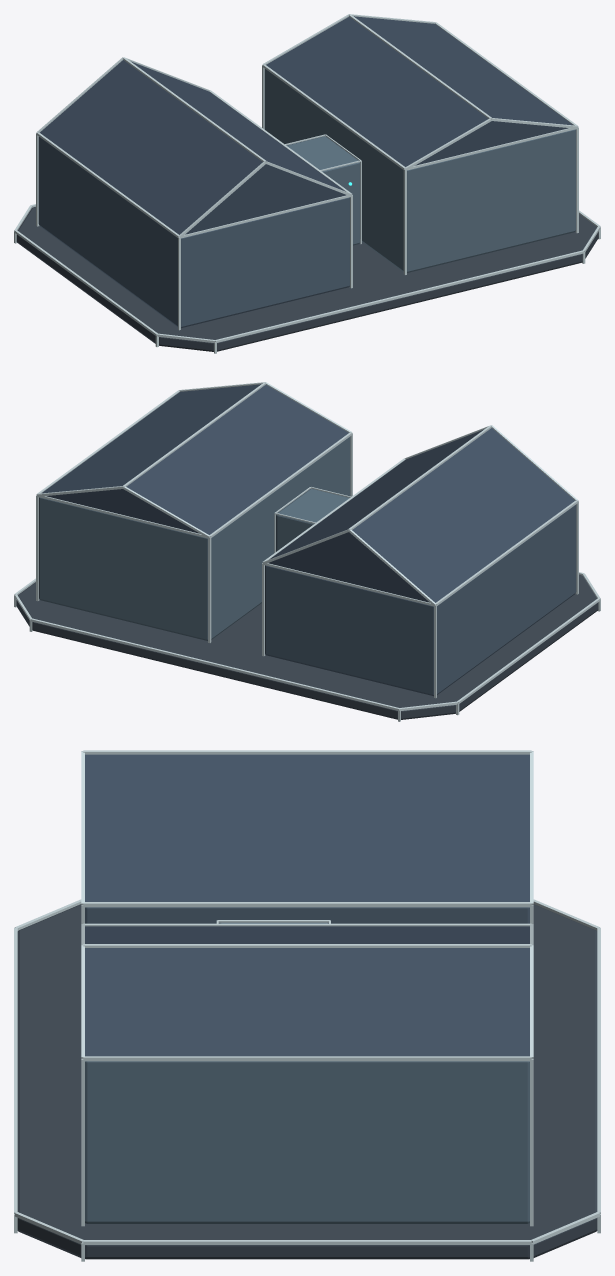
Rendered from skill-data-contracts-v1.glb.
3 renders of one model, top to bottom at view 1: azimuth 30°, elevation 25°; view 2: azimuth 150°, elevation 25°; view 3: azimuth 270°, elevation 25°, orthographic. The views are drawn at different scales.
Visible parts, largest first — view 1: skill-data-contracts-v1__mesh-roof__001, skill-data-contracts-v1__mesh-structure-mid__001, skill-data-contracts-v1__mesh-structure-dark__001, skill-data-contracts-v1__mesh-ground__001, skill-data-contracts-v1__technical-lines__001; view 2: skill-data-contracts-v1__mesh-roof__001, skill-data-contracts-v1__mesh-structure-mid__001, skill-data-contracts-v1__mesh-structure-dark__001, skill-data-contracts-v1__mesh-ground__001, skill-data-contracts-v1__technical-lines__001; view 3: skill-data-contracts-v1__mesh-roof__001, skill-data-contracts-v1__mesh-structure-mid__001, skill-data-contracts-v1__mesh-ground__001, skill-data-contracts-v1__technical-lines__001, skill-data-contracts-v1__mesh-structure-dark__001.
Part boxes in pixels (x1=…): skill-data-contracts-v1__mesh-roof__001: x1=40, y1=16, x2=572, y2=234; skill-data-contracts-v1__mesh-structure-mid__001: x1=264, y1=68, x2=575, y2=272; skill-data-contracts-v1__mesh-structure-dark__001: x1=38, y1=136, x2=349, y2=328; skill-data-contracts-v1__mesh-ground__001: x1=16, y1=207, x2=598, y2=351; skill-data-contracts-v1__technical-lines__001: x1=14, y1=14, x2=600, y2=353; skill-data-contracts-v1__mesh-roof__001: x1=42, y1=384, x2=574, y2=602; skill-data-contracts-v1__mesh-structure-mid__001: x1=39, y1=436, x2=350, y2=640; skill-data-contracts-v1__mesh-structure-dark__001: x1=265, y1=504, x2=576, y2=696; skill-data-contracts-v1__mesh-ground__001: x1=16, y1=575, x2=598, y2=719; skill-data-contracts-v1__technical-lines__001: x1=14, y1=382, x2=600, y2=721; skill-data-contracts-v1__mesh-roof__001: x1=85, y1=754, x2=529, y2=1056; skill-data-contracts-v1__mesh-structure-mid__001: x1=85, y1=922, x2=529, y2=1223; skill-data-contracts-v1__mesh-ground__001: x1=17, y1=904, x2=597, y2=1259; skill-data-contracts-v1__technical-lines__001: x1=14, y1=750, x2=600, y2=1261; skill-data-contracts-v1__mesh-structure-dark__001: x1=85, y1=907, x2=529, y2=923.
Bounding box in the file's own units: 36.17 × 12.39 × 26.17.
